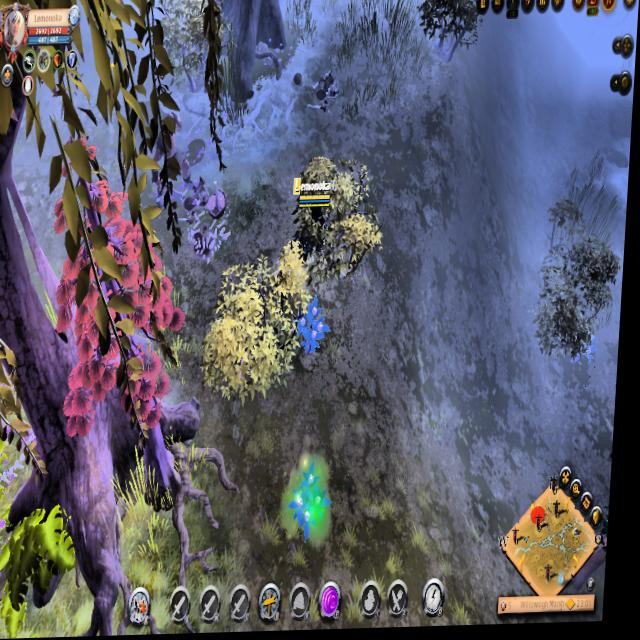fiber tier 4: (294, 461, 341, 543), (297, 296, 336, 359)
